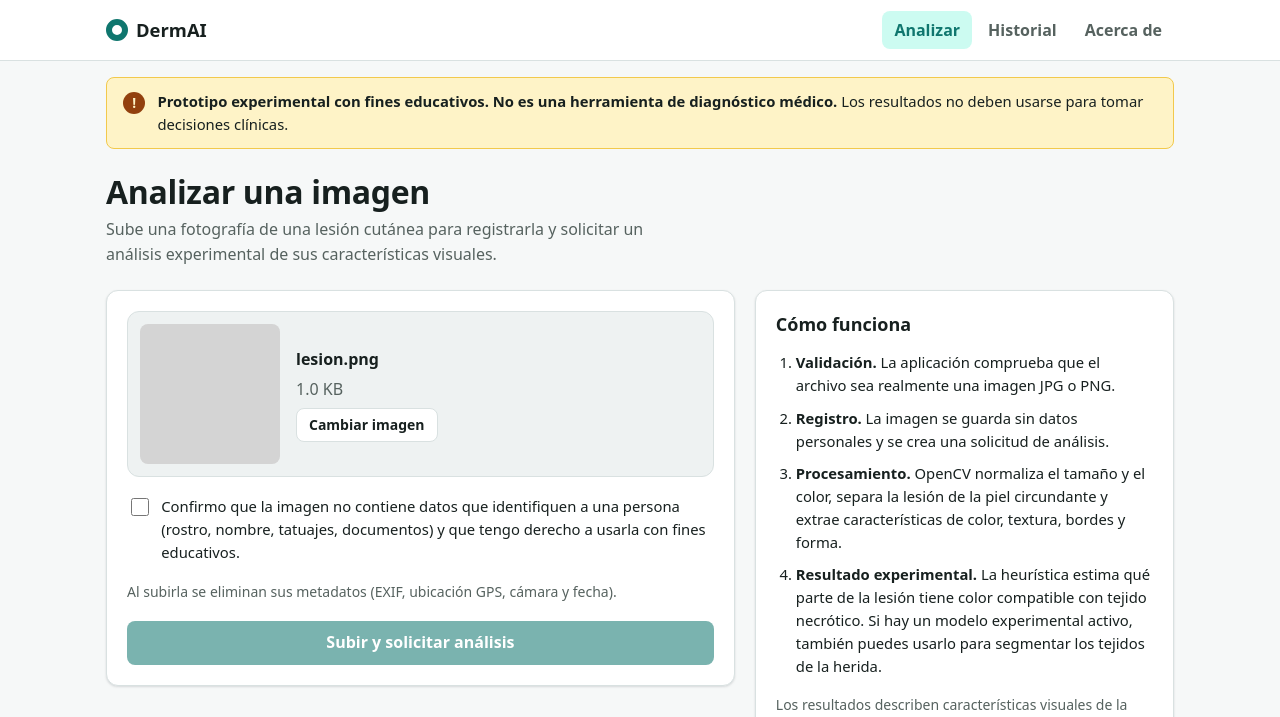
UploadPage › solo permite enviar con una imagen válida y la confirmación marcada
The image size is (1280, 717).
Earlier steps of the test are not shown.
Expected: the button "Subir y solicitar análisis" is disabled, [127, 621, 714, 665]
Click the checkbox labelled "Confirmo que la imagen": (140, 507) [131, 498, 149, 516]
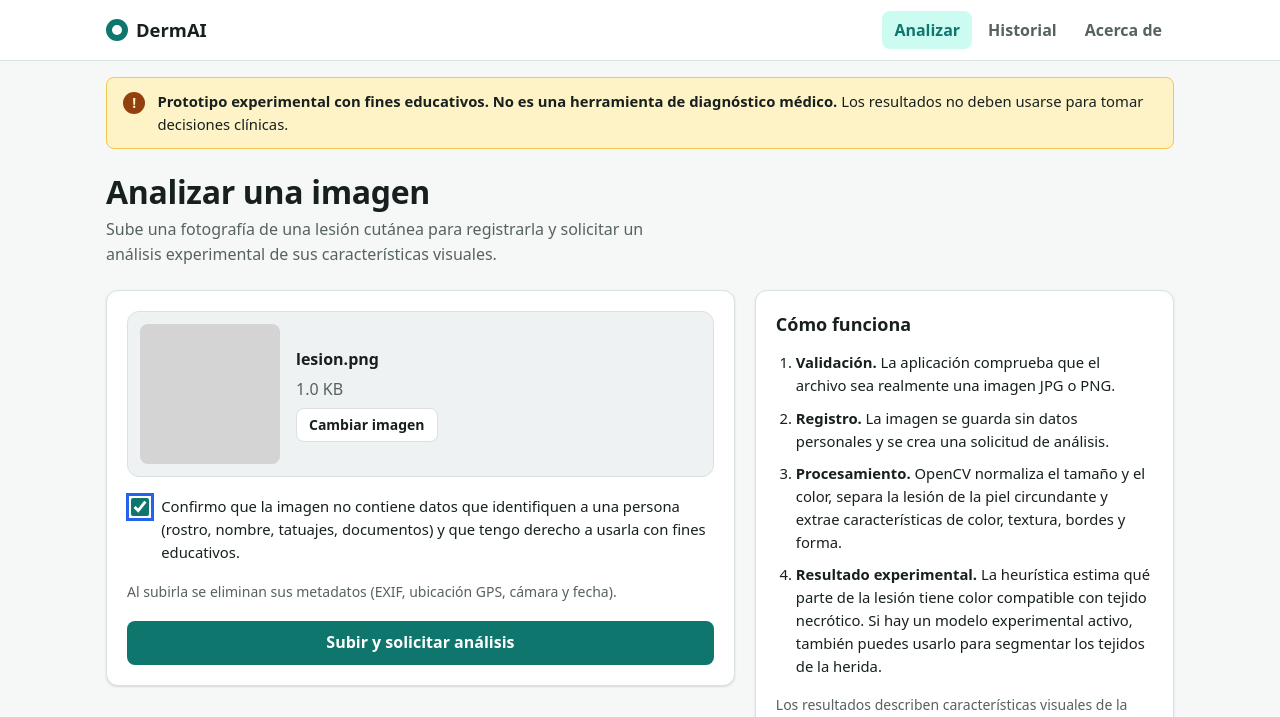
Result: the button "Subir y solicitar análisis" is enabled at [127, 621, 714, 665]
